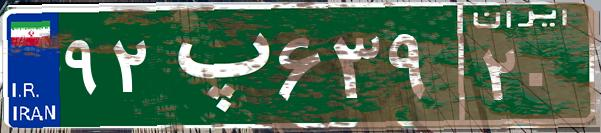0: (525, 38, 570, 115)
2: (475, 38, 525, 113), (110, 28, 158, 105)
3: (330, 28, 385, 110)
6: (273, 28, 330, 110)
9: (385, 28, 445, 110), (57, 26, 110, 107)
پ: (158, 15, 273, 115)
